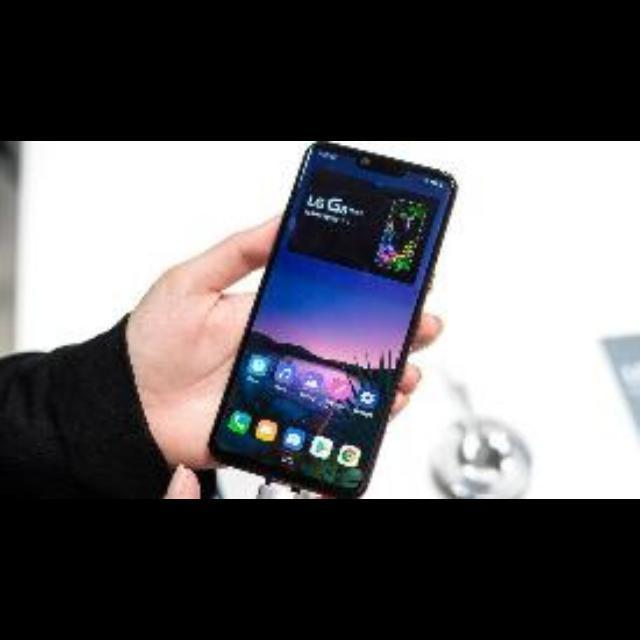PhoneUse: (206, 141, 459, 499)
